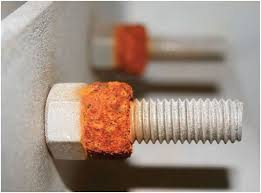rust: (70, 73, 139, 166), (111, 18, 152, 78)
